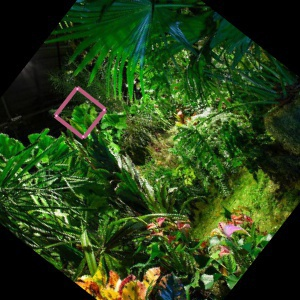square: (51, 85, 108, 140)
